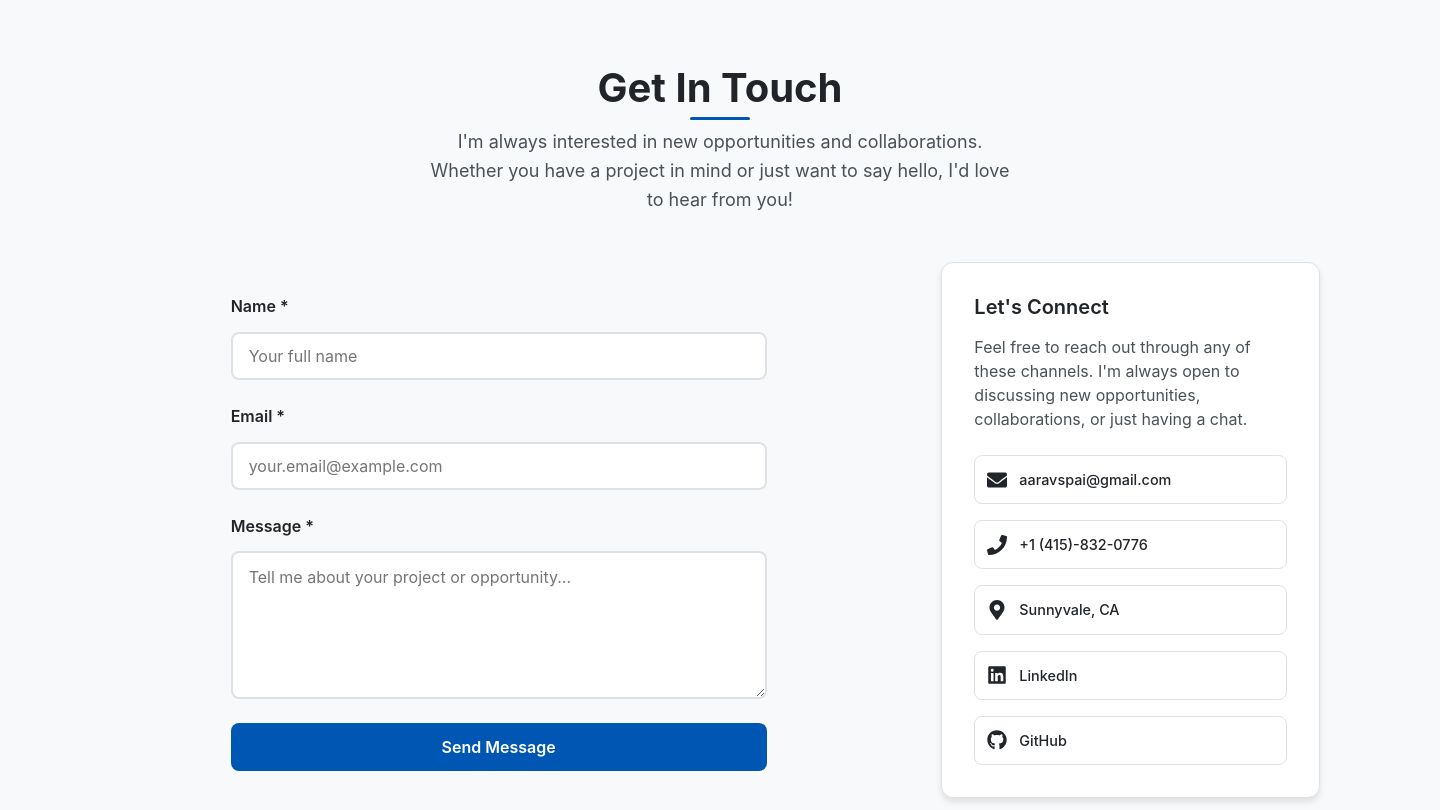
Test: Contact › Form Submission Success › shows success message on successful submission
Type "John Doe" into the field labelled "Name *".
click(499, 356); type("John Doe")  # box [231,332,767,380]
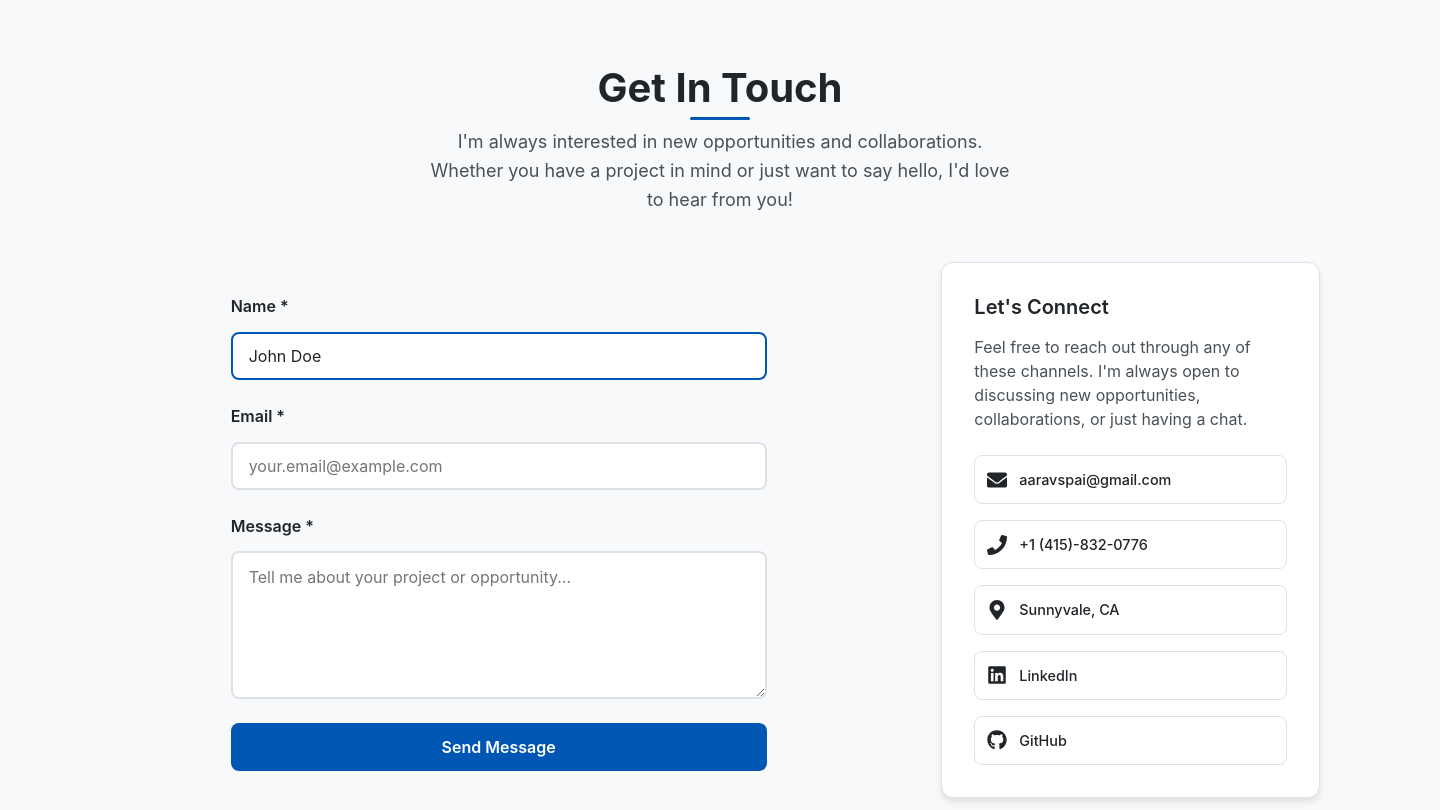
Type "john@example.com" into the field labelled "Email *".
click(499, 466); type("john@example.com")  # box [231,442,767,490]
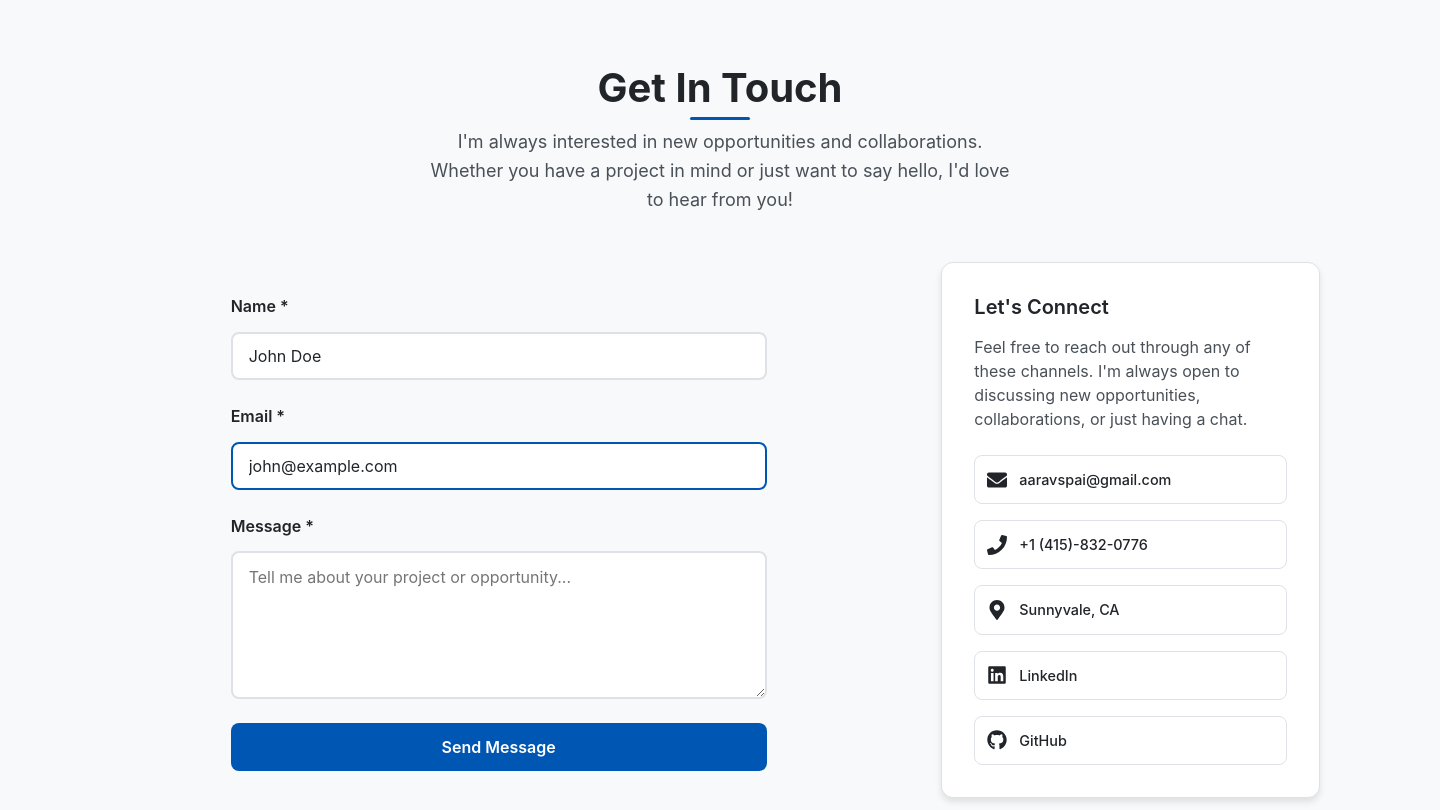
Type "This is a test message with enough characters." into the text box labelled "Message *".
click(499, 625); type("This is a test message with enough characters.")  # box [231,551,767,699]
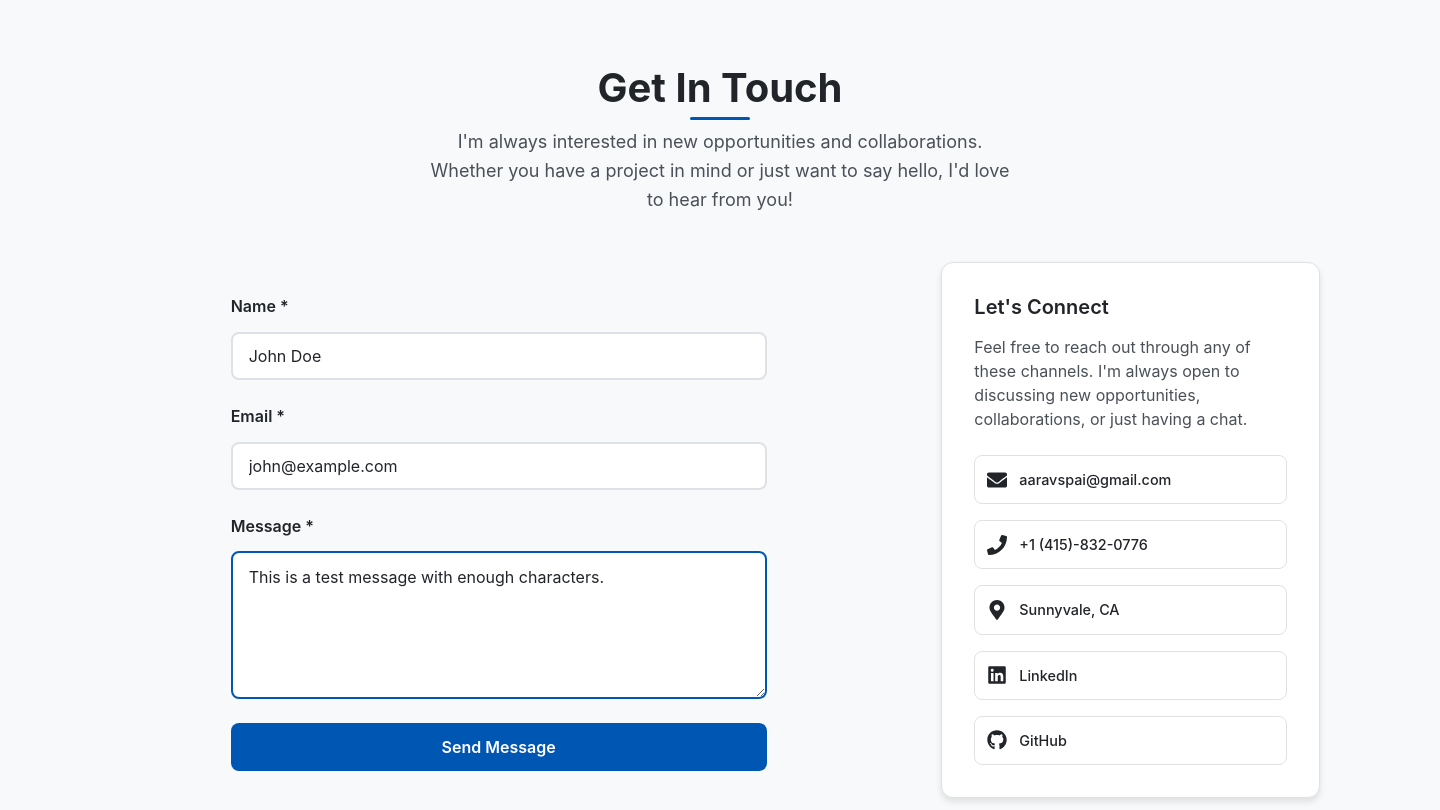
Click the button "Send Message".
click(499, 747)  # box [231,723,767,771]
(page scrolled)
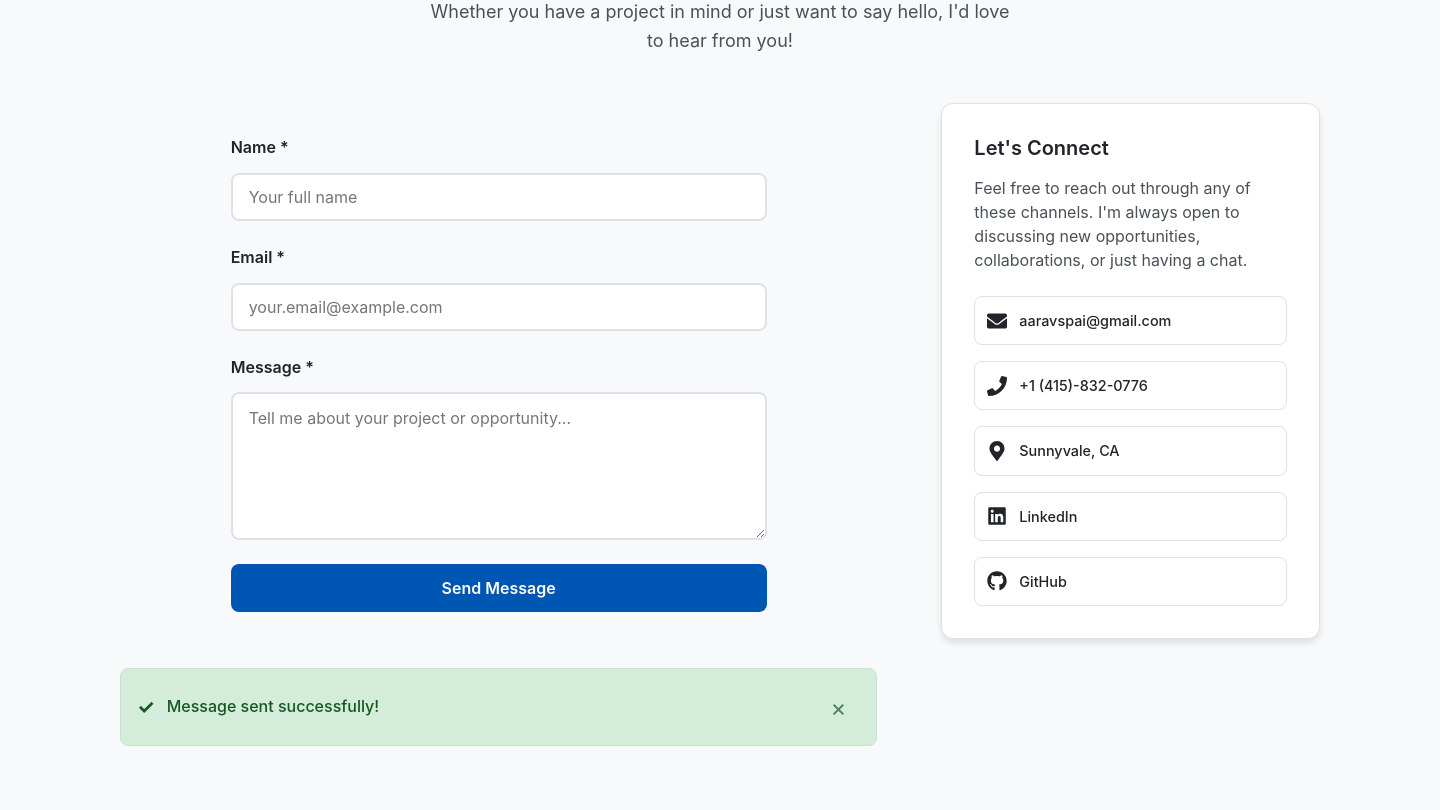
Expected: the text "Message sent successfully!" is shown, [167,696,379,716]
